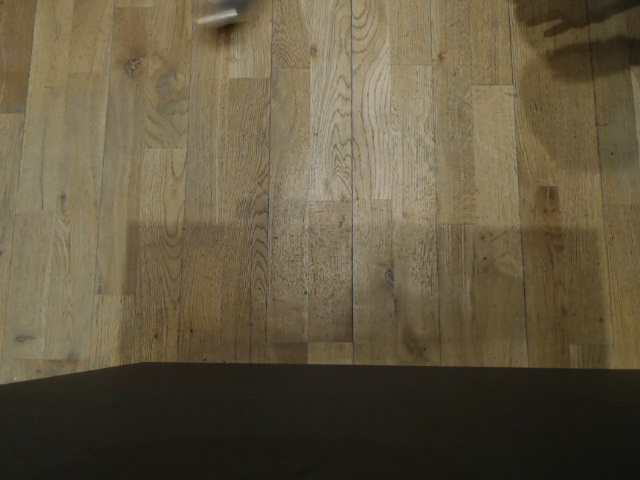beer: (188, 0, 254, 26)
